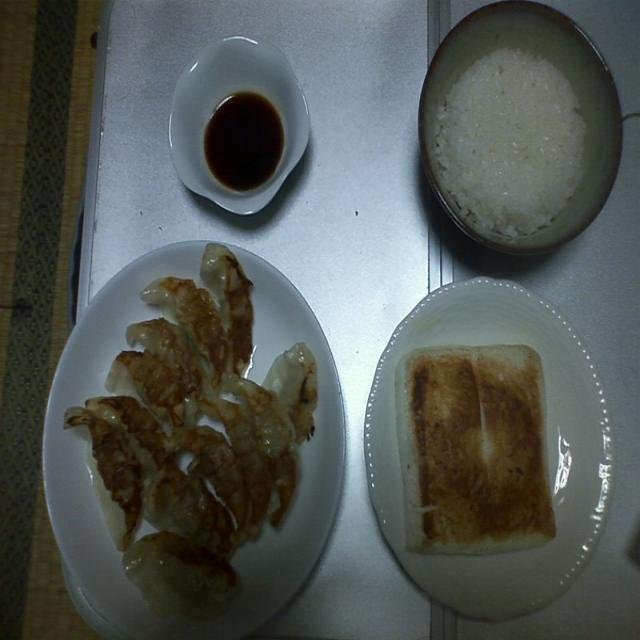Rice: (422, 27, 596, 250)
